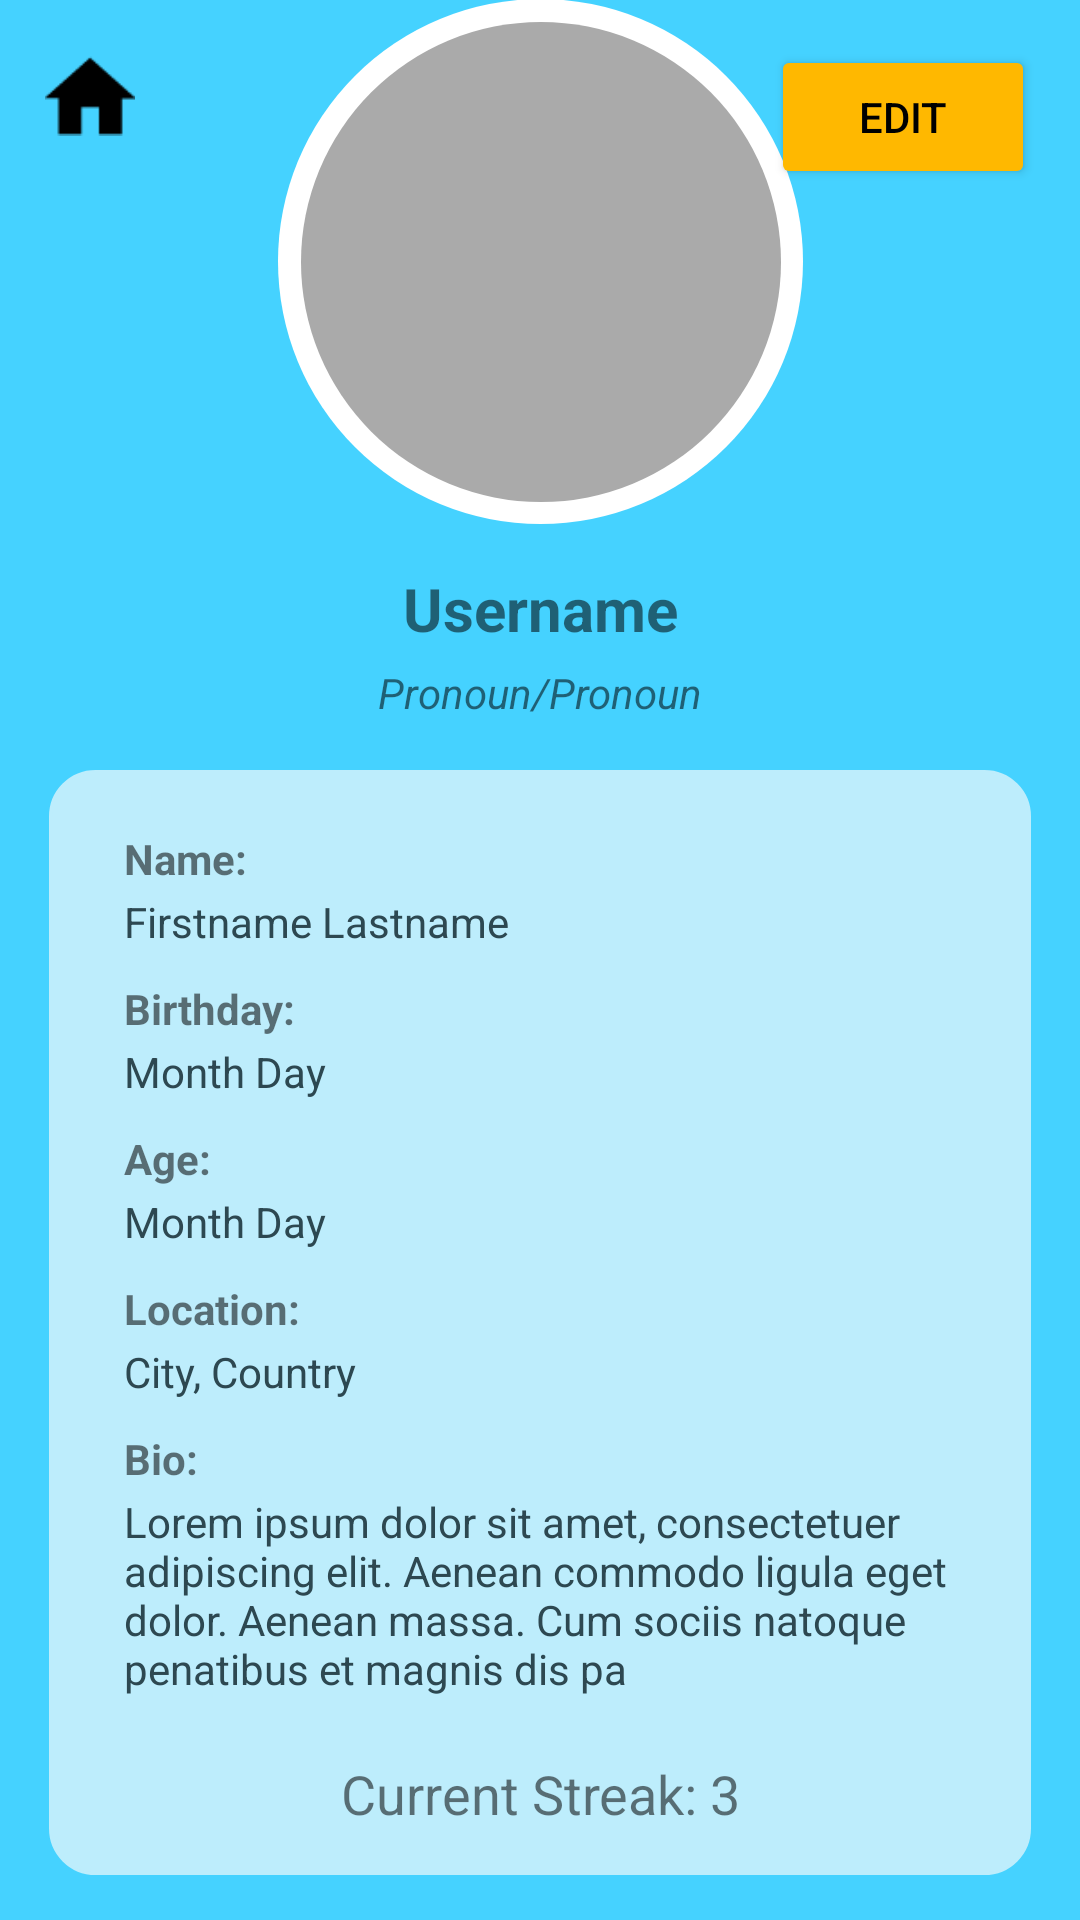

Icons on this 1080 x 1920 Android screen, each with the point to tap as (x=x, y=y):
home: (x=90, y=96)
